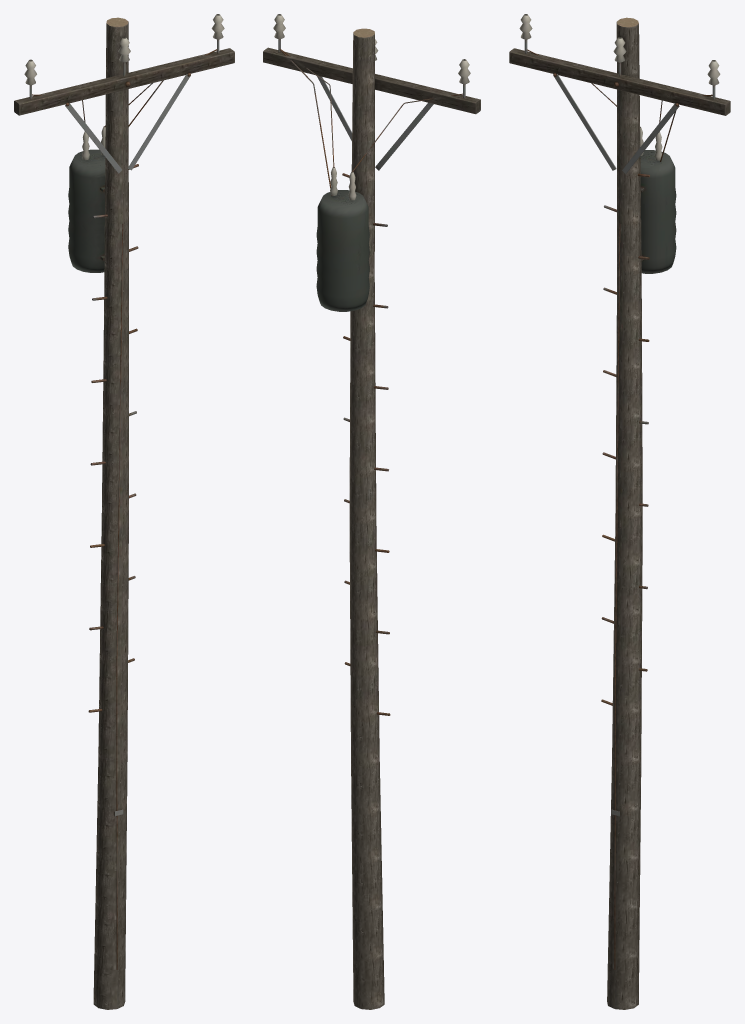
The model's file is pole.glb.
3 renders of one model, left to right at view 1: azimuth 30°, elevation 25°; view 2: azimuth 150°, elevation 25°; view 3: azimuth 330°, elevation 25°, orthographic.
Parts seen in each view (by area): view 1: pole; view 2: pole; view 3: pole.
Part boxes in pixels (bbox=[...]): pole: bbox=[14, 14, 234, 1009]; pole: bbox=[263, 14, 480, 1009]; pole: bbox=[509, 14, 730, 1009].
Bounding box in the file's own units: 2.3 × 10 × 0.8744.
1 material, 1 textured.
